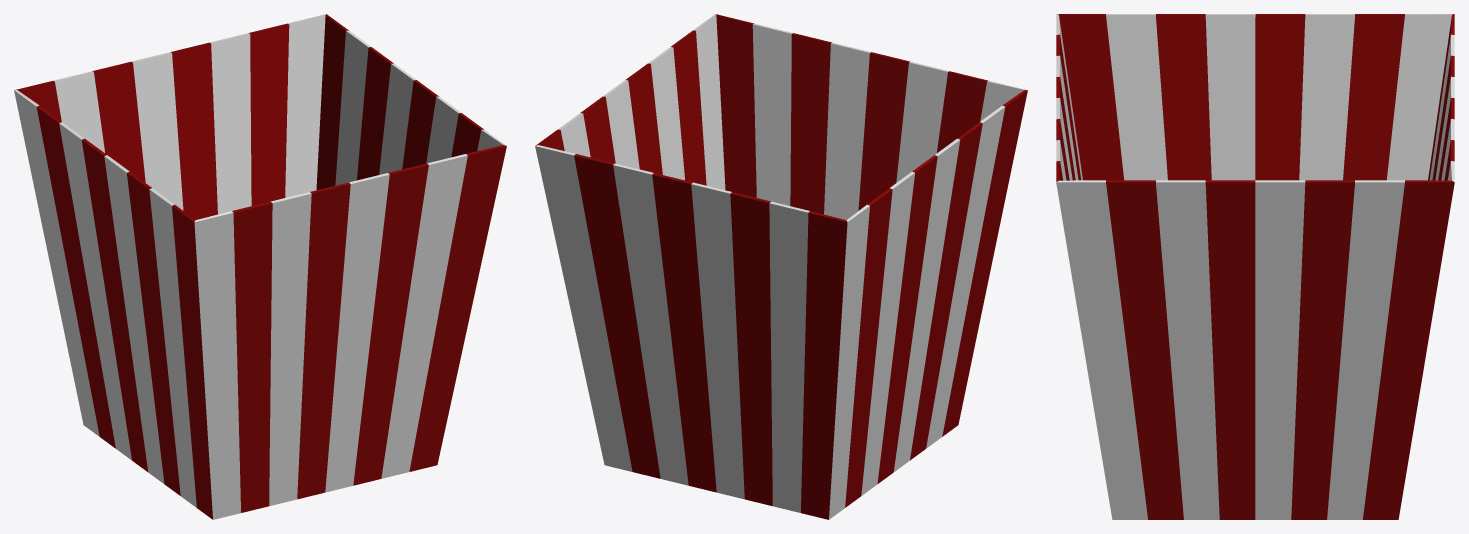
Rendered from Popcorn.fbx.
3 views of the same model, side by side, from view 1: azimuth 30°, elevation 25°; view 2: azimuth 150°, elevation 25°; view 3: azimuth 270°, elevation 25° (orthographic). The views are drawn at different scales.
Visible parts, largest first — view 1: Cube; view 2: Cube; view 3: Cube.
Part boxes in pixels (x1,y1,x2,y2): Cube: (14, 14, 506, 519); Cube: (535, 14, 1027, 519); Cube: (1056, 14, 1454, 519).
Size of the model in its own units: 200 by 200 by 200.
